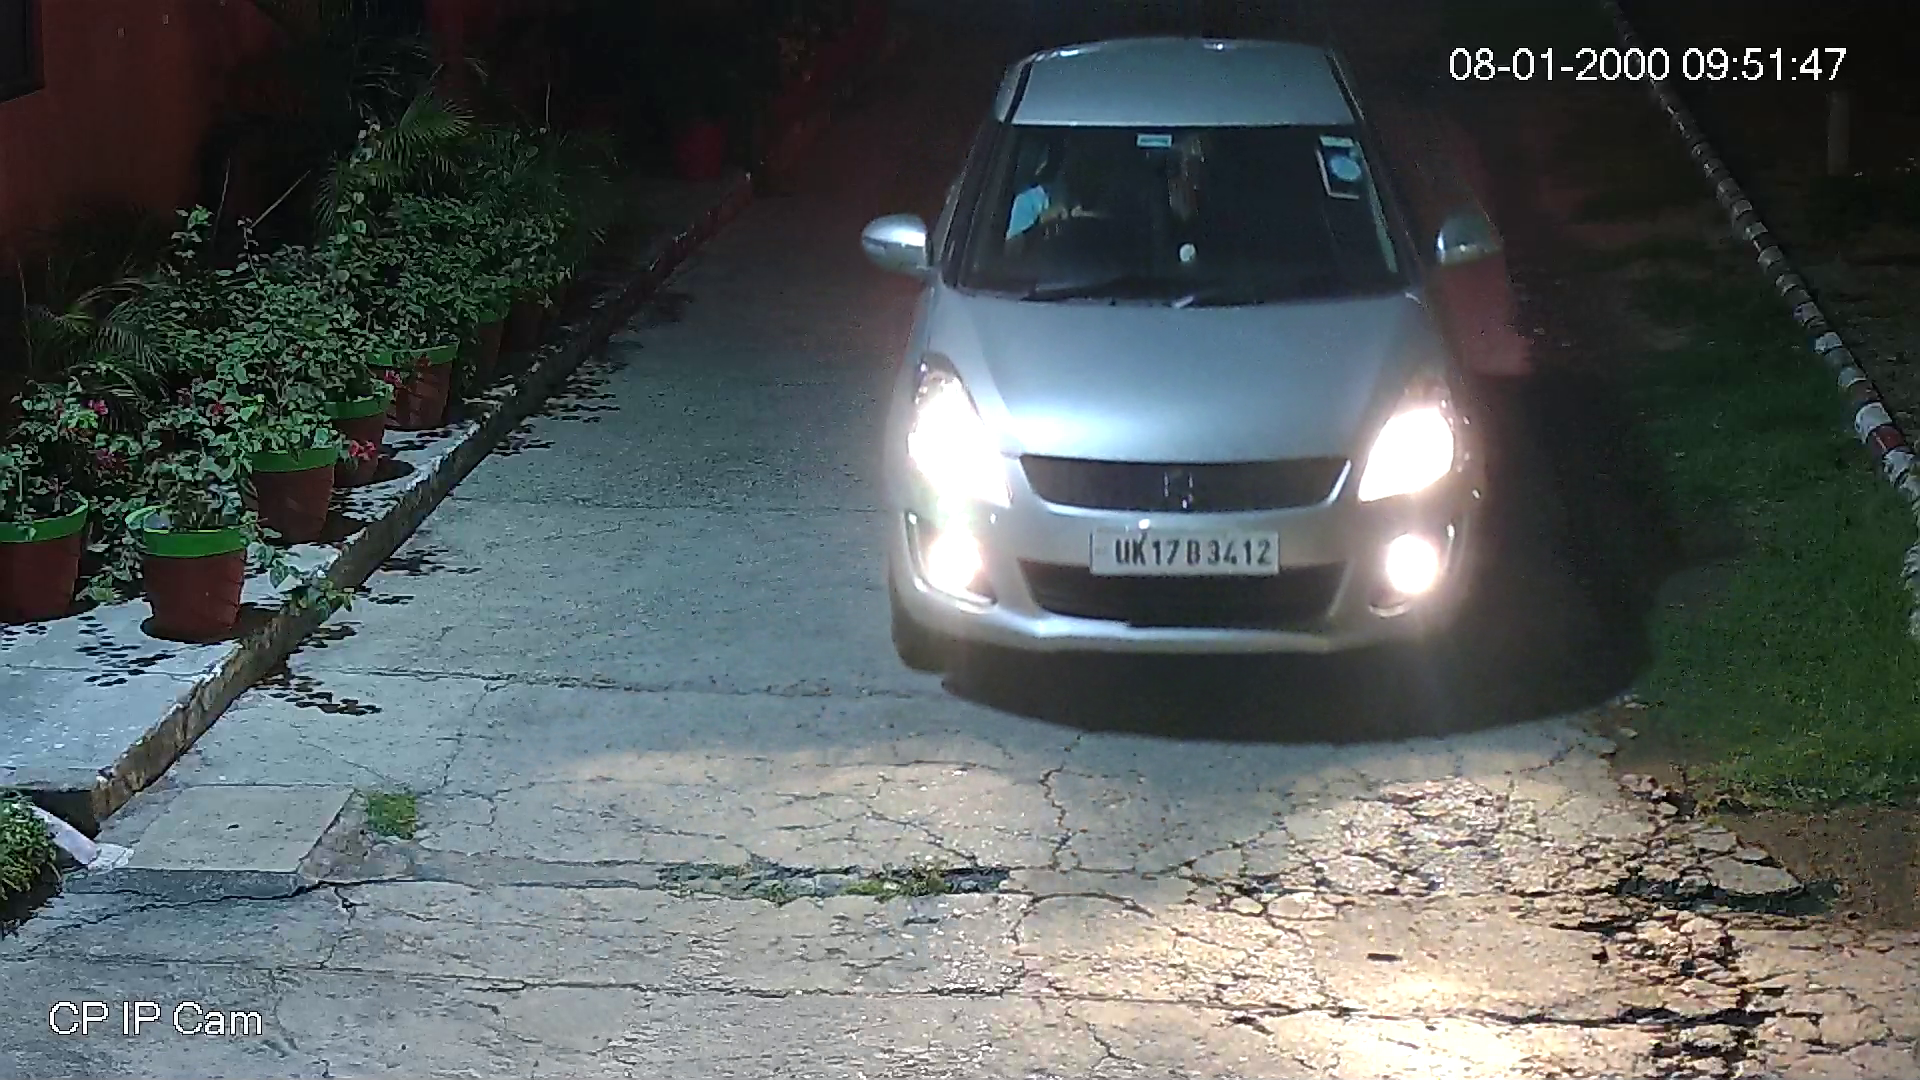plate: (1082, 519, 1283, 580)
